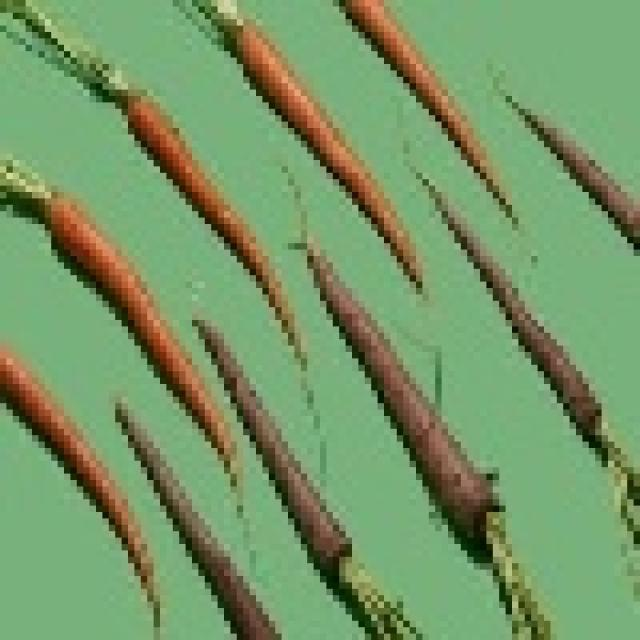Stale_Carrot: (305, 249, 539, 608), (415, 171, 627, 497), (195, 315, 360, 583), (115, 401, 285, 640), (473, 68, 640, 235)
